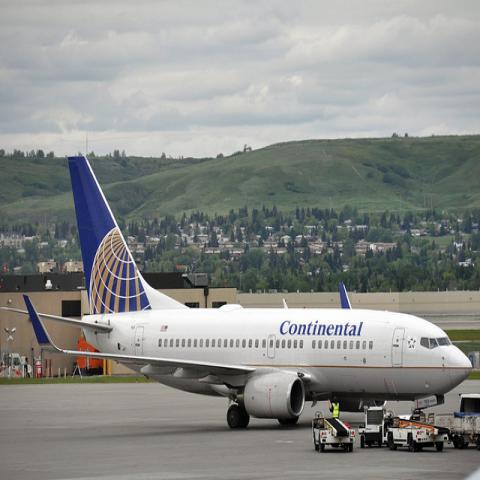truck: (358, 406, 440, 452), (427, 392, 479, 451), (311, 410, 356, 453)
